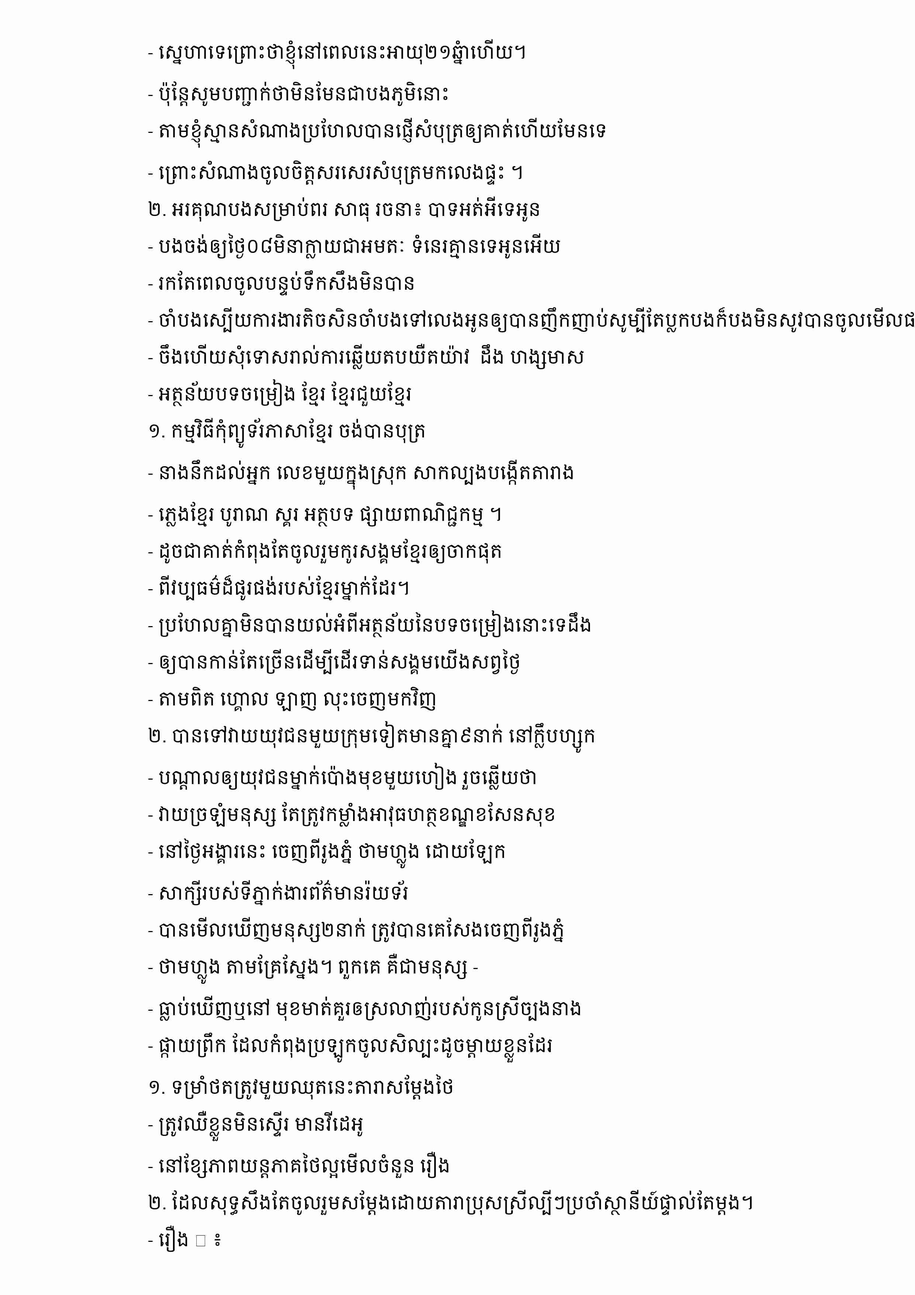text: (148, 307, 915, 333), (148, 1190, 759, 1215), (148, 721, 601, 753), (148, 118, 612, 148), (148, 460, 580, 490), (148, 610, 597, 638), (148, 1033, 558, 1063), (148, 39, 532, 69), (148, 344, 590, 370), (148, 838, 511, 869), (148, 996, 587, 1021), (148, 233, 566, 259), (148, 763, 542, 790), (148, 917, 570, 942), (148, 196, 546, 222), (148, 802, 561, 827), (148, 954, 484, 984), (148, 160, 528, 185), (148, 649, 526, 674), (148, 502, 507, 527), (148, 539, 507, 564), (148, 418, 431, 448), (148, 1151, 456, 1178), (148, 1074, 459, 1100), (148, 81, 455, 106), (148, 379, 417, 406), (148, 270, 420, 296), (148, 687, 442, 711), (148, 575, 415, 601), (148, 880, 414, 906), (148, 1111, 369, 1141), (148, 1225, 227, 1252)
